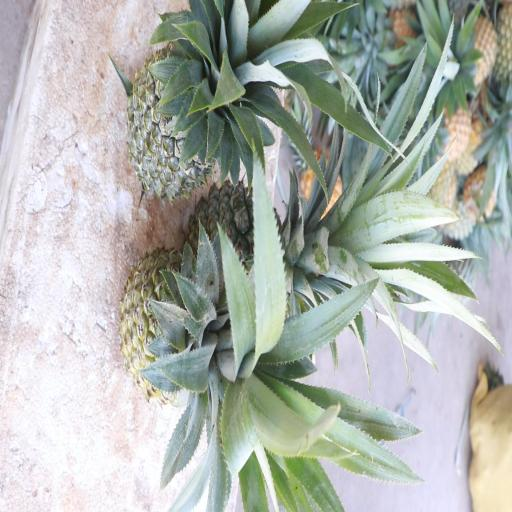------------------------------: (117, 247, 277, 413)
Pineapple - v8 v1: (446, 14, 497, 96), (427, 102, 475, 161)
